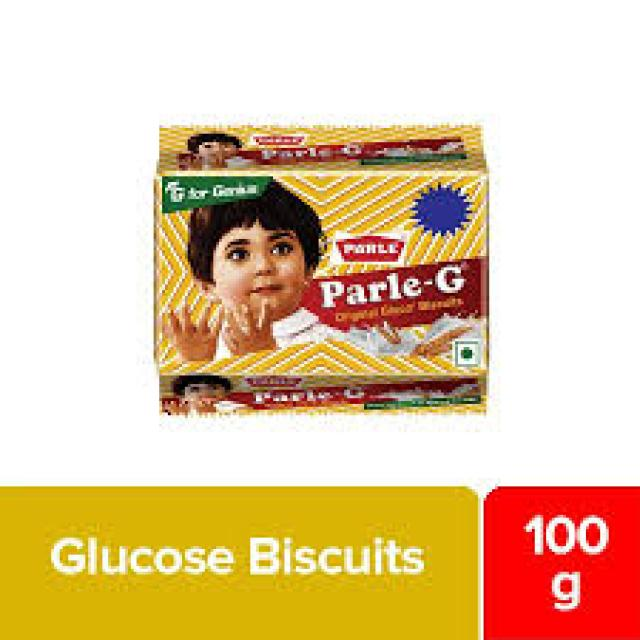parle-g: (152, 125, 489, 414)
